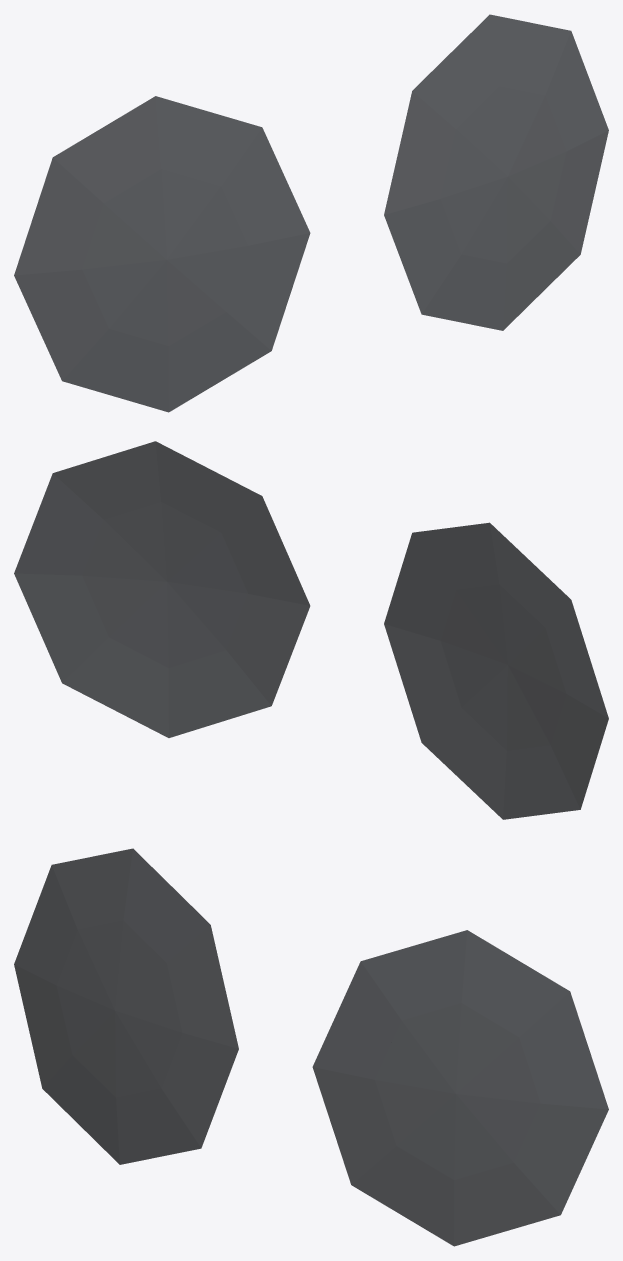
Rendered from SM_Chr_Attach_Gas_Mask_01_Glass.fbx.
3 renders of one model, top to bottom at view 1: azimuth 30°, elevation 25°; view 2: azimuth 150°, elevation 25°; view 3: azimuth 330°, elevation 25°, orthographic.
Parts seen in each view (by area): view 1: SM_Chr_Attach_Gas_Mask_01_Glass; view 2: SM_Chr_Attach_Gas_Mask_01_Glass; view 3: SM_Chr_Attach_Gas_Mask_01_Glass.
Part boxes in pixels (x1=…): SM_Chr_Attach_Gas_Mask_01_Glass: x1=14, y1=14, x2=608, y2=412; SM_Chr_Attach_Gas_Mask_01_Glass: x1=14, y1=441, x2=608, y2=819; SM_Chr_Attach_Gas_Mask_01_Glass: x1=14, y1=848, x2=608, y2=1246.
Size of the model in its own units: 22.21 by 10.94 by 2.31.
